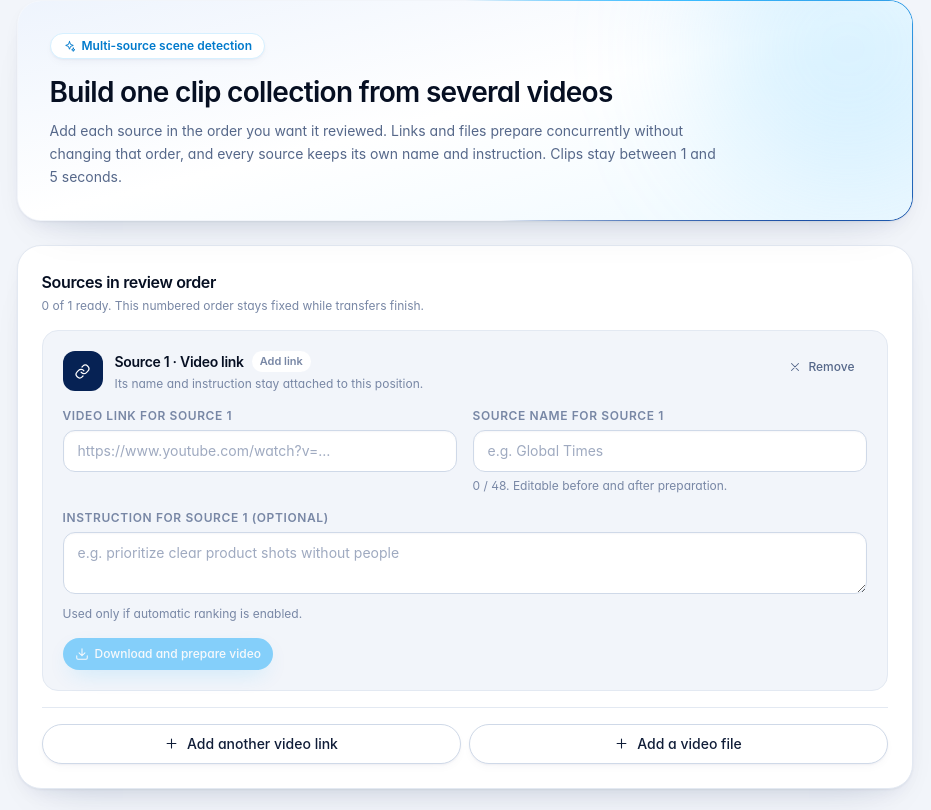
new-job source rows › does not overwrite a source name typed while the URL is downloading
Type "https://www.youtube.com/watch?v=slow" into the field labelled "Video link for source 1" at (260, 451), box [62,430,456,472]
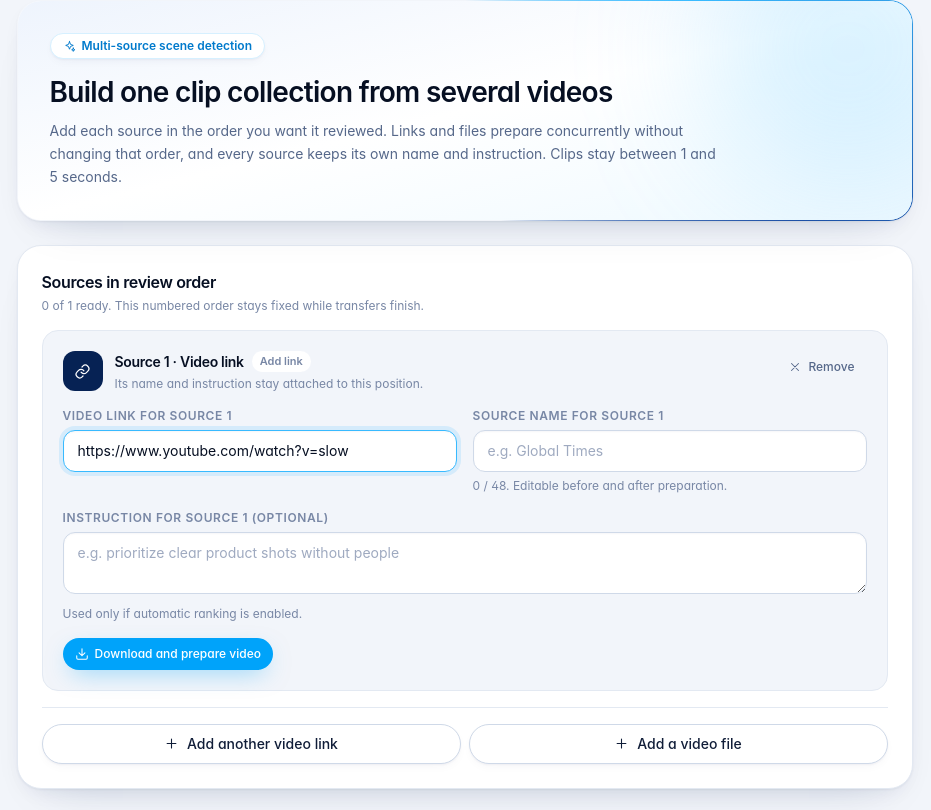
Click the button "Download and prepare video" at (168, 654), box [62,638,273,670]
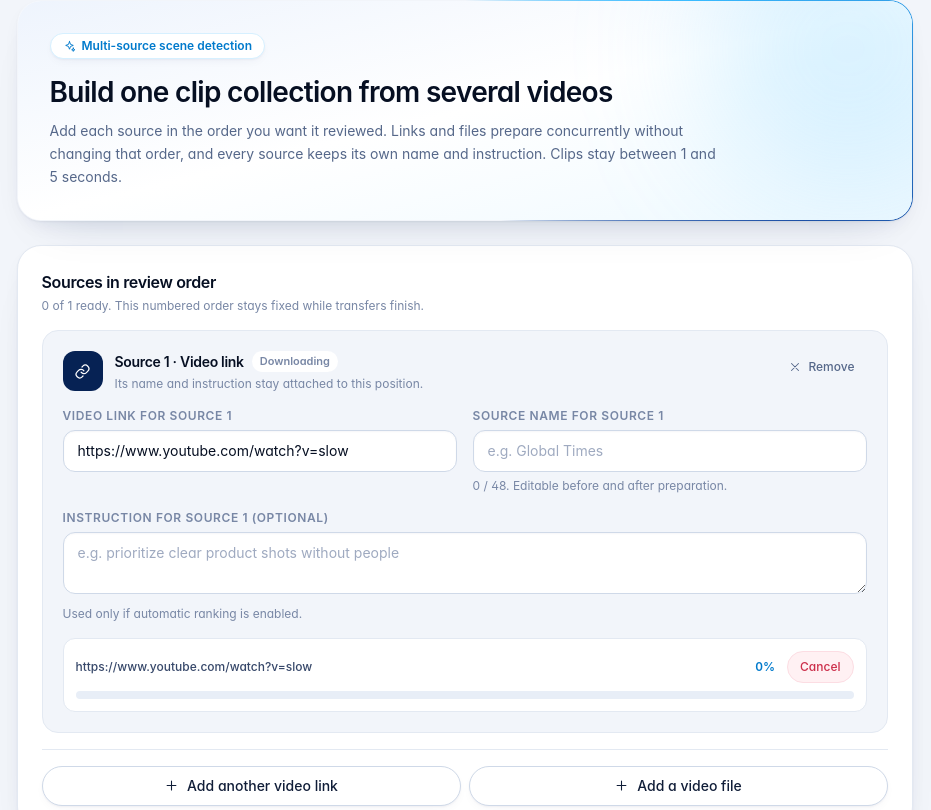
Type "My live edit" into the field labelled "Source name for source 1" at (670, 451), box [472,430,866,472]
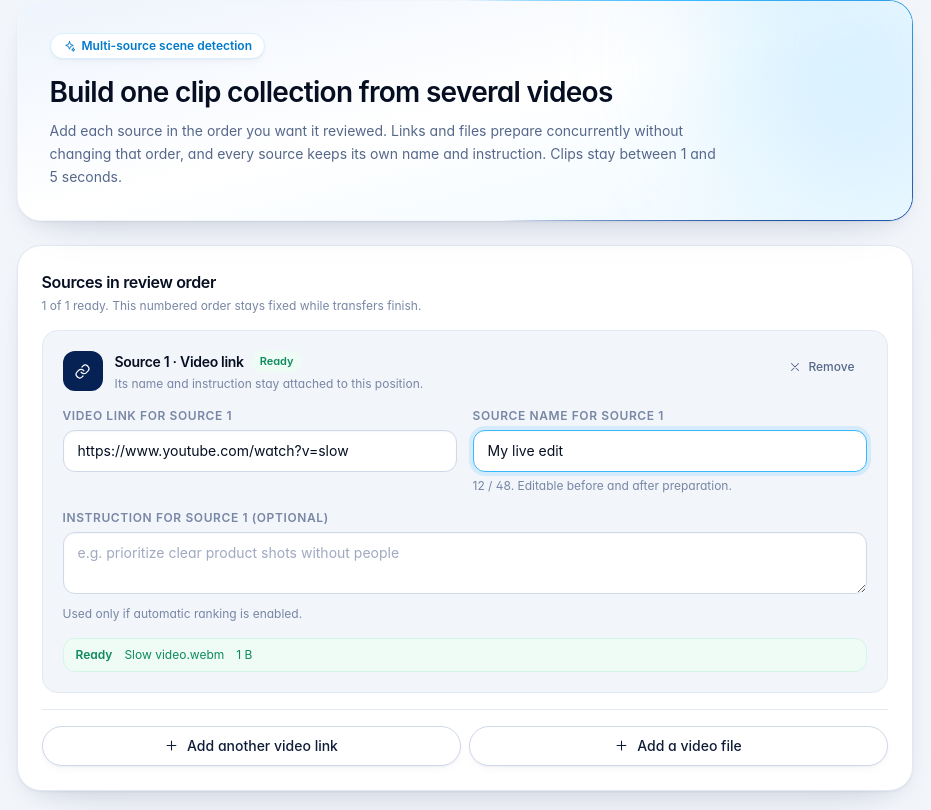
Now the text "Slow video.webm" is shown, box [124,647,224,663]
